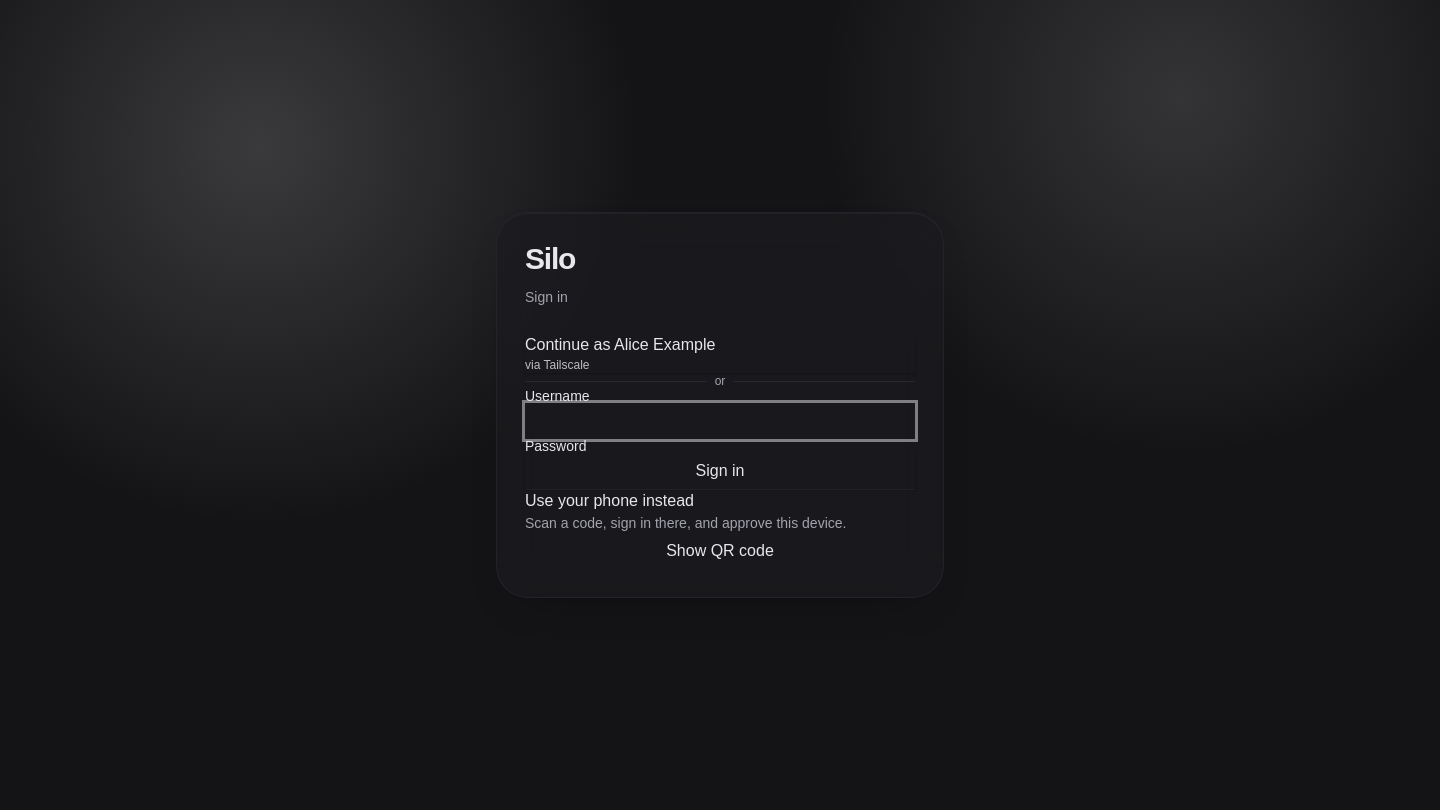
it: explains a not_permitted refusal
Click the button "Continue as Alice Example via Tailscale" at point(620, 345), box [525, 333, 915, 373]
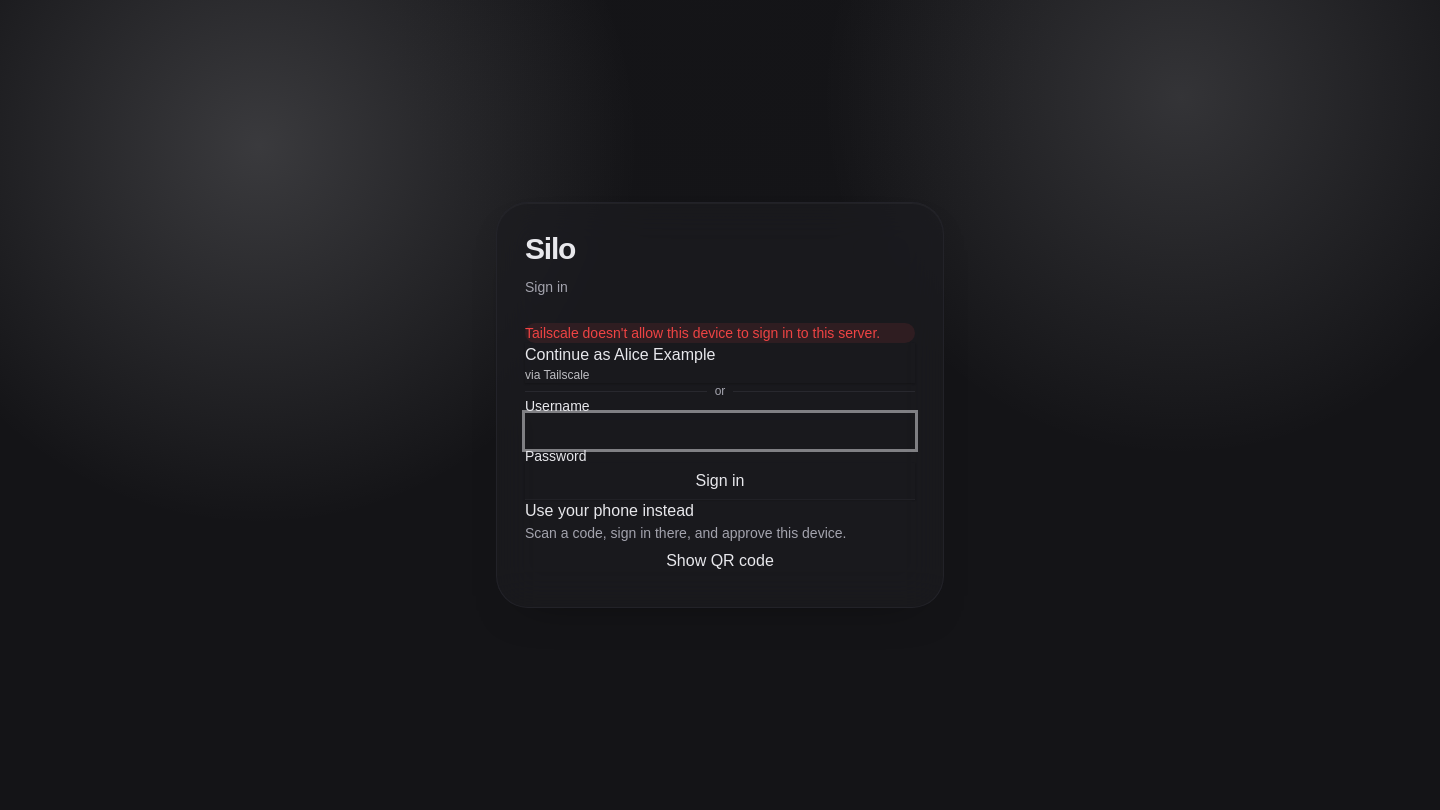
Expected: the message reads "Tailscale doesn't allow this device to sign in to this server.", [525, 325, 880, 341]
